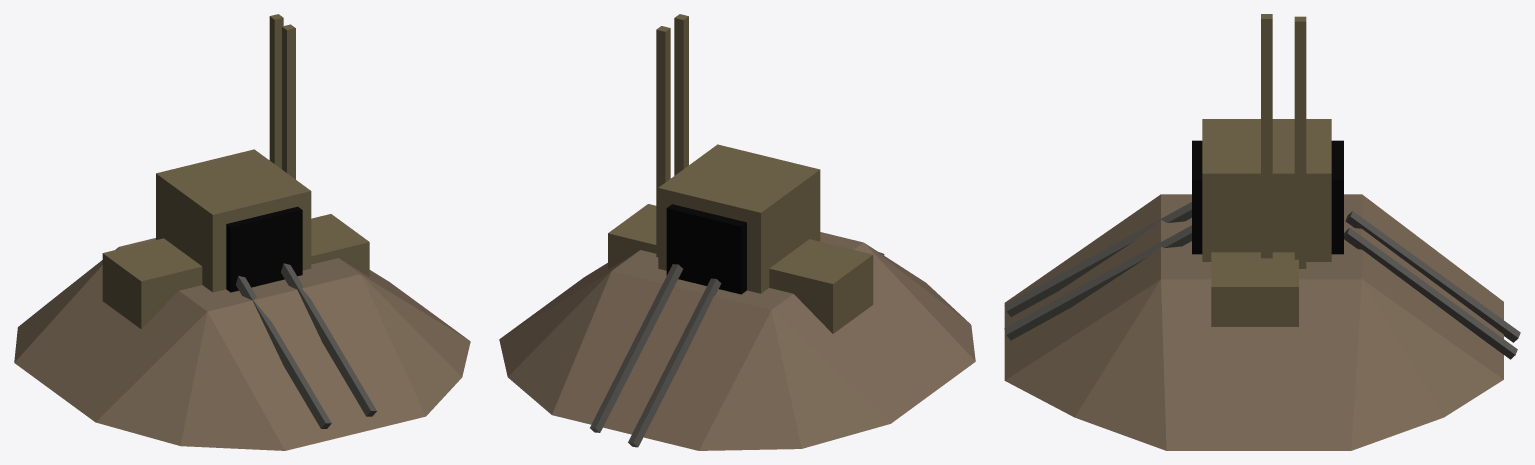
File: Mine.dae
The picture shows the model from 3 angles, left to right: view 1: azimuth 30°, elevation 25°; view 2: azimuth 150°, elevation 25°; view 3: azimuth 270°, elevation 25°; orthographic projection. The views are drawn at different scales.
Parts seen in each view (by area): view 1: Plane, Cube, Cube_006, Cube_001, Cube_007, Cube_002, Cube_005, Cube_003, Cube_004; view 2: Plane, Cube, Cube_006, Cube_001, Cube_003, Cube_002, Cube_008, Cube_009, Cube_007; view 3: Plane, Cube, Cube_007, Cube_003, Cube_002, Cube_001, Cube_008, Cube_005, Cube_009, Cube_004.
Part boxes in pixels (x1=…): Plane: x1=14, y1=238, x2=470, y2=450; Cube: x1=156, y1=149, x2=311, y2=292; Cube_006: x1=102, y1=238, x2=202, y2=328; Cube_001: x1=226, y1=206, x2=302, y2=292; Cube_007: x1=311, y1=214, x2=369, y2=276; Cube_002: x1=282, y1=24, x2=295, y2=179; Cube_005: x1=281, y1=263, x2=376, y2=416; Cube_003: x1=269, y1=14, x2=283, y2=168; Cube_004: x1=235, y1=276, x2=331, y2=428; Plane: x1=499, y1=232, x2=975, y2=450; Cube: x1=658, y1=144, x2=820, y2=293; Cube_006: x1=769, y1=239, x2=873, y2=333; Cube_001: x1=666, y1=204, x2=746, y2=294; Cube_003: x1=656, y1=26, x2=670, y2=257; Cube_002: x1=674, y1=14, x2=688, y2=175; Cube_008: x1=590, y1=264, x2=682, y2=432; Cube_009: x1=628, y1=278, x2=721, y2=447; Cube_007: x1=608, y1=204, x2=656, y2=269; Plane: x1=1004, y1=194, x2=1503, y2=450; Cube: x1=1202, y1=119, x2=1331, y2=261; Cube_007: x1=1211, y1=252, x2=1298, y2=326; Cube_003: x1=1294, y1=16, x2=1306, y2=268; Cube_002: x1=1261, y1=14, x2=1272, y2=258; Cube_001: x1=1192, y1=140, x2=1343, y2=254; Cube_008: x1=1344, y1=228, x2=1517, y2=359; Cube_005: x1=1004, y1=225, x2=1191, y2=340; Cube_009: x1=1345, y1=211, x2=1520, y2=342; Cube_004: x1=1004, y1=202, x2=1191, y2=316.
Bounding box in the file's own units: 1.79 × 1.88 × 1.45.
